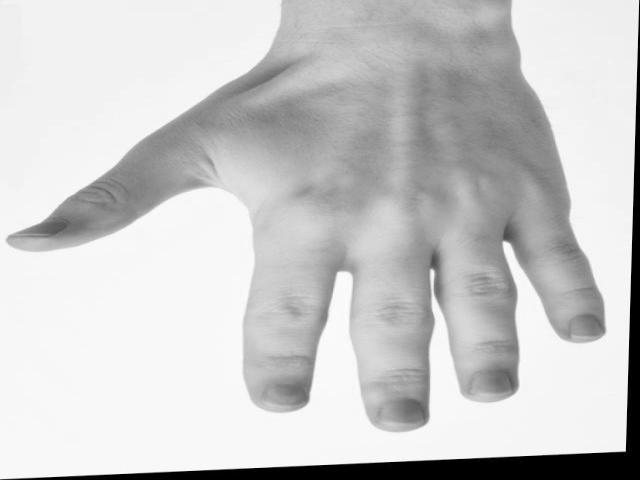not-gloved: (5, 30, 608, 435)
